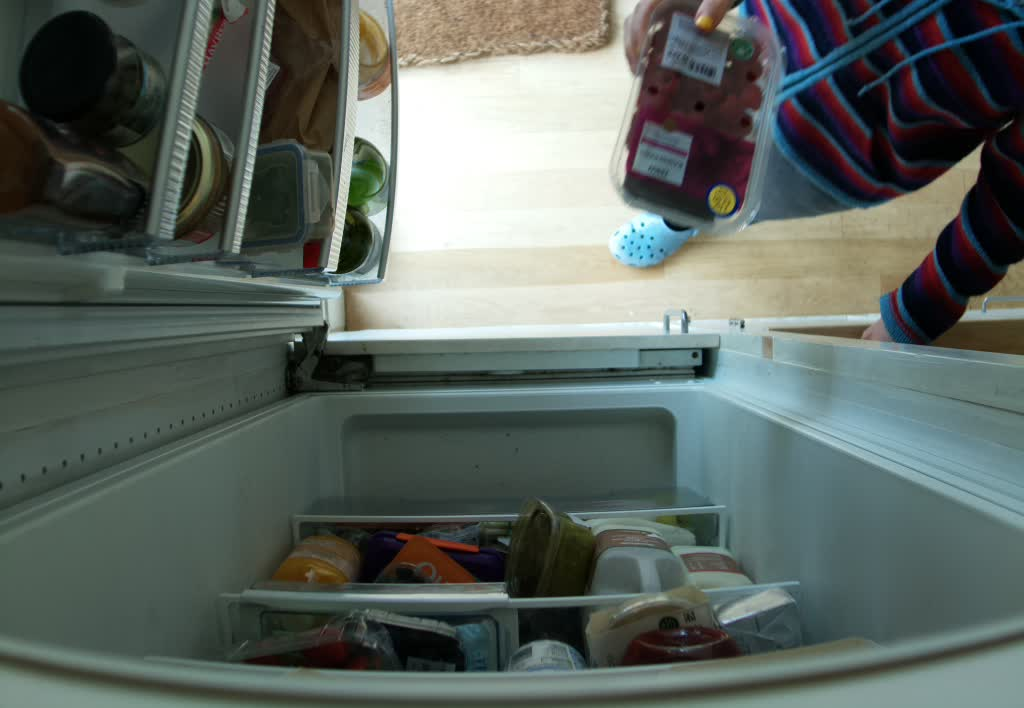soft-fruit: (608, 1, 782, 233)
